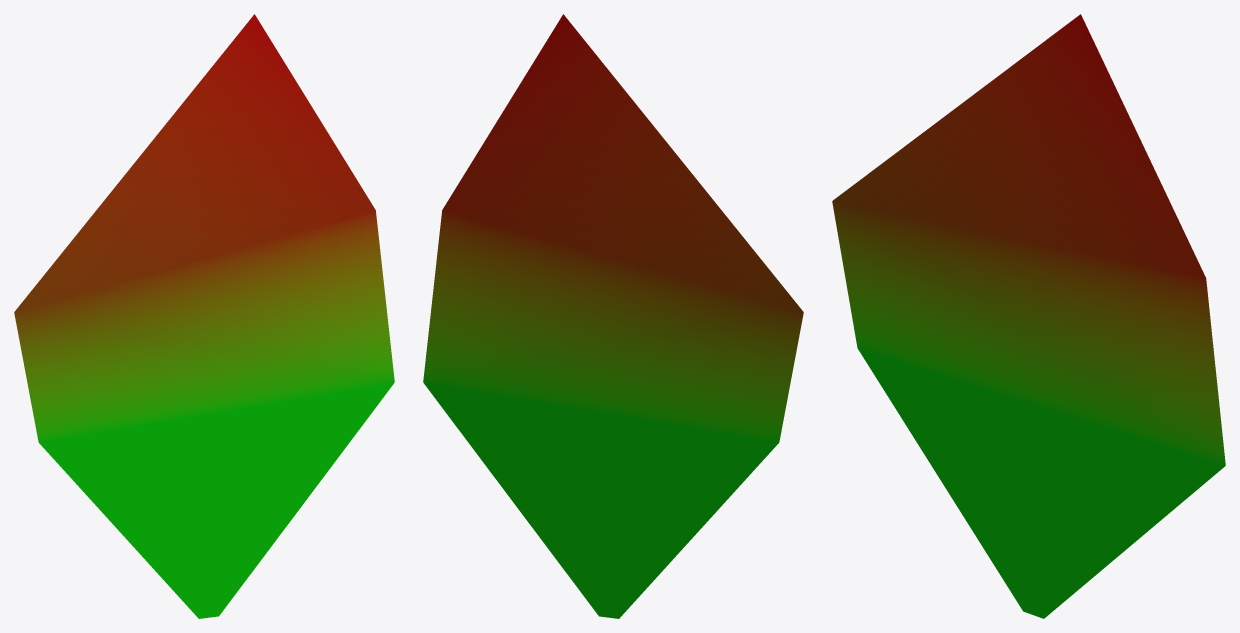
The model's file is Var6_LOD5.fbx.
3 renders of one model, left to right at view 1: azimuth 30°, elevation 25°; view 2: azimuth 150°, elevation 25°; view 3: azimuth 330°, elevation 25°, orthographic. The views are drawn at different scales.
Parts seen in each view (by area): view 1: _90ac_Var6_LOD5; view 2: _90ac_Var6_LOD5; view 3: _90ac_Var6_LOD5.
Boxes of the visible parts, x1,y1,x2,y2 form: _90ac_Var6_LOD5: (14, 14, 394, 618); _90ac_Var6_LOD5: (423, 14, 803, 618); _90ac_Var6_LOD5: (832, 14, 1225, 618).
Bounding box in the file's own units: 32.63 × 48.63 × 6.68e-06.
